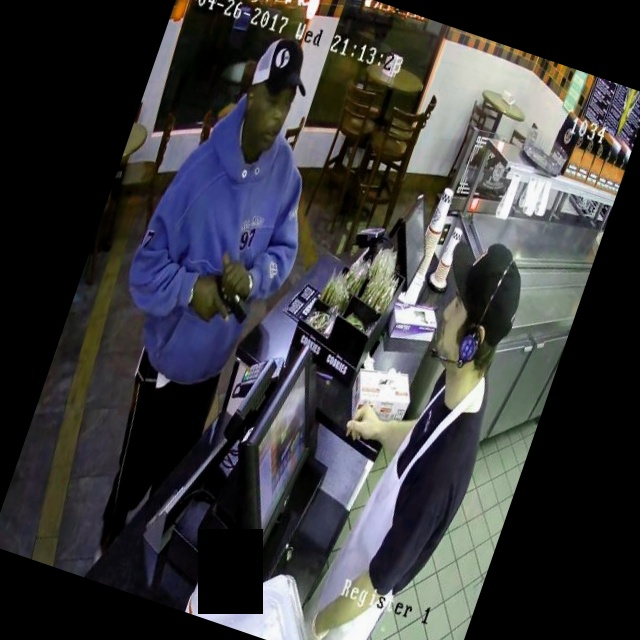gun: (182, 254, 268, 341)
